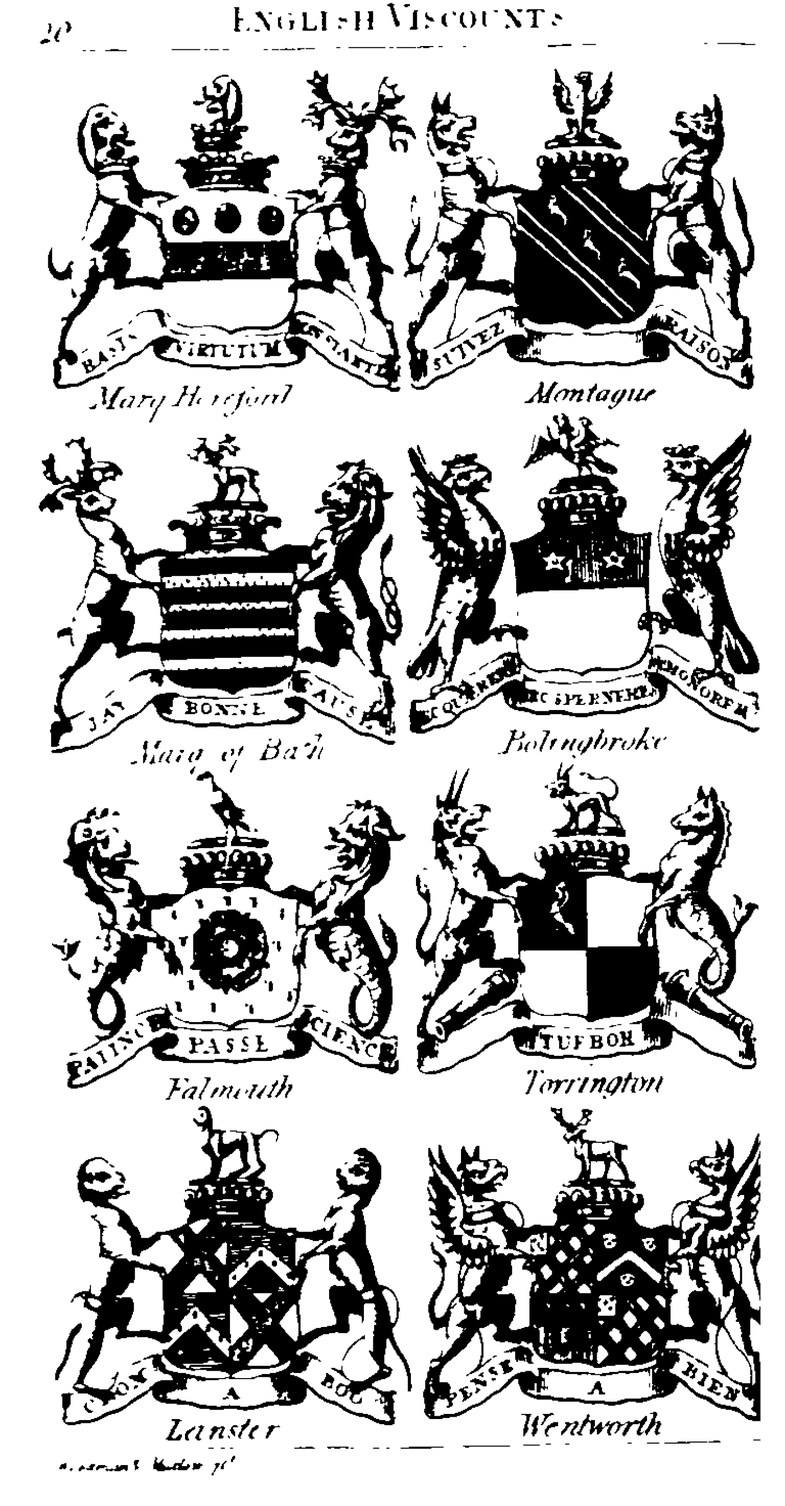coat_of_arms: (25, 430, 410, 786), (21, 65, 407, 420), (45, 1109, 423, 1448), (43, 781, 414, 1118), (404, 428, 778, 759), (404, 770, 772, 1101), (408, 69, 754, 418), (421, 1098, 768, 1440)
